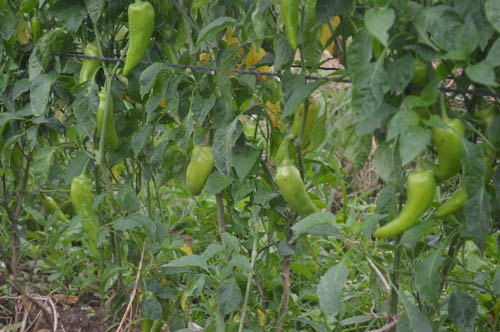ChiliPepper: (372, 170, 435, 252), (271, 104, 321, 157), (123, 4, 157, 77), (68, 175, 101, 242), (275, 168, 314, 218), (436, 119, 464, 185), (184, 147, 216, 202), (92, 91, 120, 149), (436, 192, 468, 222), (79, 45, 99, 82)
